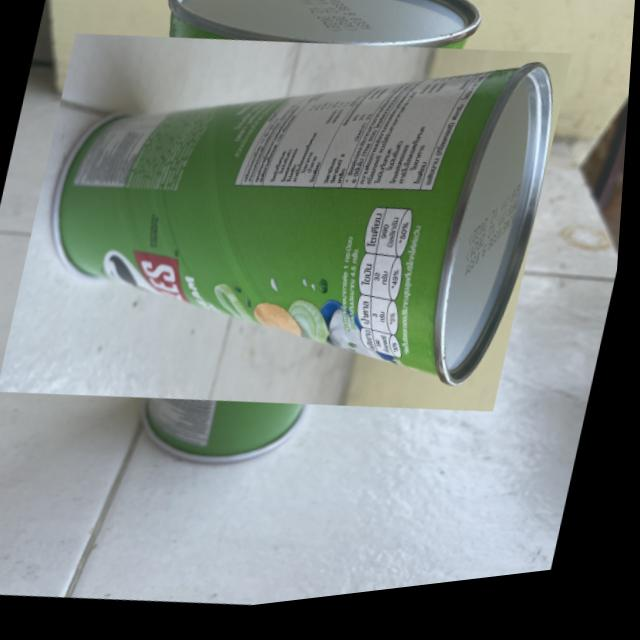a pringles: (28, 0, 548, 501)
